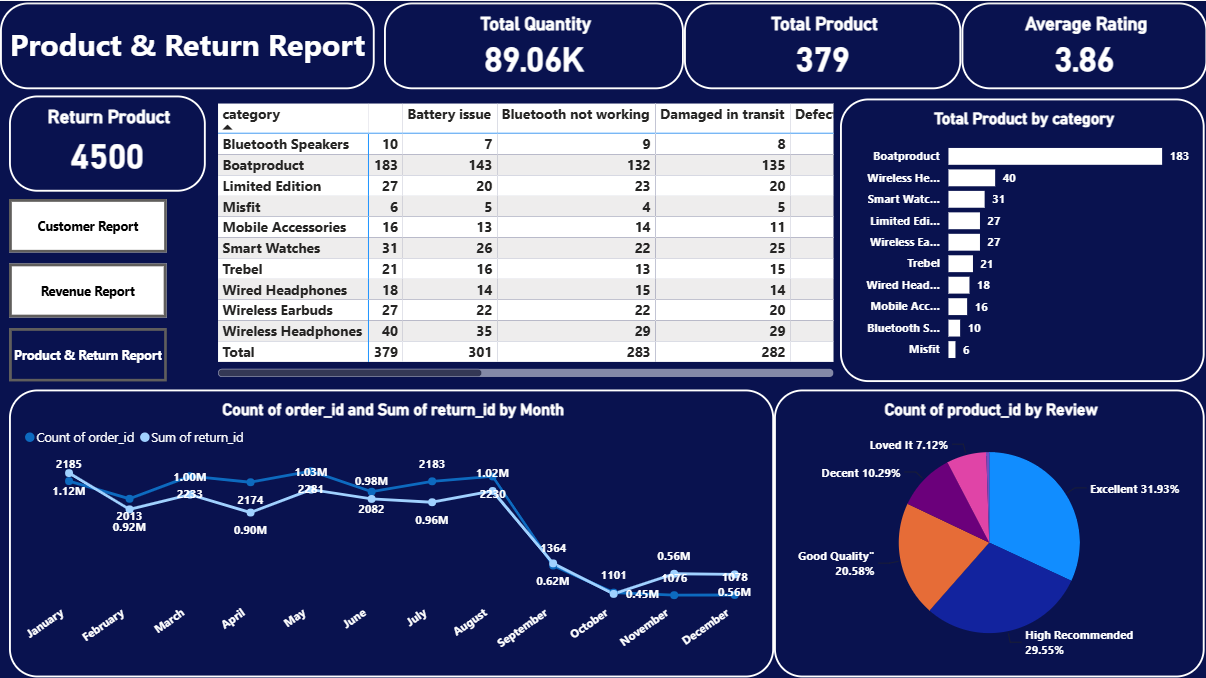

The dashboard page shown, as its layout file describes it:
{"tool":"powerbi","page":{"name":"Product & Return Report","canvas":[1280,720],"ordinal":3},"visuals":[{"type":"card","title":"Total Product","fields":{"Values":["Count(Product.product_id)"]},"box":[725.3,1.6,294.3,92.3],"z":0},{"type":"card","title":"Total Quantity","fields":{"Values":["Sum(Order_Detail.quantity)"]},"box":[407.2,1.6,318.1,92.3],"z":1000},{"type":"card","title":"Return Product","fields":{"Values":["Count(Return.return_id)"]},"box":[9.5,100.2,208.4,101.8],"z":2000},{"type":"card","title":"Average Rating","fields":{"Values":["Avg(Product.Rating)"]},"box":[1019.1,1.6,260.9,92.3],"z":3000},{"type":"clusteredBarChart","title":"Total Product by category","fields":{"Category":["Product.category"],"Y":["Count(Product.product_id)"]},"box":[890.7,103.4,386.5,300.6],"z":4000},{"type":"lineChart","fields":{"Category":["Order_Boat.order_date.Variation.Date Hierarchy.Month"],"Y":["CountNonNull(Order_Boat.order_id)"],"Y2":["Sum(Return.return_id)"]},"box":[9.5,412,811.2,305.4],"z":5000},{"type":"pieChart","fields":{"Category":["Product.Review"],"Y":["CountNonNull(Product.product_id)"]},"box":[820.8,412,456.5,305.4],"z":6000},{"type":"pivotTable","fields":{"Rows":["Product.category"],"Columns":["Return.reason"],"Values":["CountNonNull(Product.product_id)"]},"box":[225.9,103.4,663.3,300.6],"z":7000},{"type":"textbox","box":[0,1.6,397.7,92.3],"z":8000},{"type":"actionButton","box":[9.5,210,167.5,56.9],"z":9000},{"type":"actionButton","box":[9.5,278.4,167,57.3],"z":10000},{"type":"actionButton","box":[9.5,346.8,167.5,56.9],"z":11000}]}

Visuals, with their boxes in screenshot pixels (x1, y1, x2, y2), scaled from the page's 1280x720 canvas onto the 1206x678 screenshot:
"Total Product" card: <region>683, 2, 961, 88</region>
"Total Quantity" card: <region>384, 2, 683, 88</region>
"Return Product" card: <region>9, 94, 205, 190</region>
"Average Rating" card: <region>960, 2, 1205, 88</region>
"Total Product by category" clusteredBarChart: <region>839, 97, 1203, 380</region>
lineChart - Order_Boat.order_date.Variation.Date Hierarchy.Month x CountNonNull(Order_Boat.order_id): <region>9, 388, 773, 676</region>
pieChart - Product.Review x CountNonNull(Product.product_id): <region>773, 388, 1203, 676</region>
pivotTable - Product.category x Return.reason: <region>213, 97, 838, 380</region>
textbox: <region>0, 2, 375, 88</region>
actionButton: <region>9, 198, 167, 251</region>
actionButton: <region>9, 262, 166, 316</region>
actionButton: <region>9, 327, 167, 380</region>
